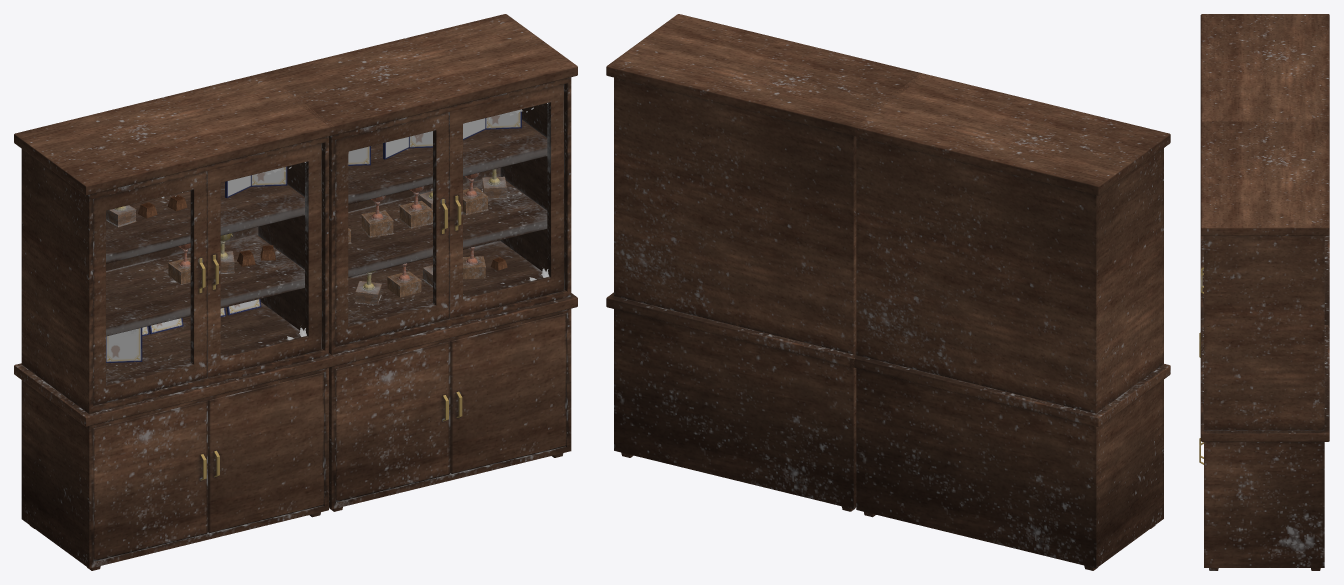
The model's file is M_ChairmanShelf.fbx.
3 views of the same model, side by side, from view 1: azimuth 30°, elevation 25°; view 2: azimuth 150°, elevation 25°; view 3: azimuth 270°, elevation 25° (orthographic). The views are drawn at different scales.
Visible parts, largest first — view 1: principles_shelf_GEO, shelf_GEO, lowerR_GEO (×2), lowerL_GEO (×2), higherL01door_GEO (×2), higherR01door_GEO, higherR01shelf_GEO, award1_GEO, award6_GEO, award9_GEO, trophy3_GEO6, trophy3_GEO5 (+2 smaller); view 2: principles_shelf_GEO, shelf_GEO; view 3: shelf_GEO, principles_shelf_GEO.
Boxes of the visible parts, left/top/right/bottom form: principles_shelf_GEO: left=14, top=73, right=334, bottom=570; shelf_GEO: left=258, top=14, right=577, bottom=511; lowerR_GEO (×2): left=208, top=313, right=566, bottom=533; lowerL_GEO (×2): left=93, top=341, right=450, bottom=561; higherL01door_GEO (×2): left=93, top=112, right=449, bottom=405; higherR01door_GEO: left=207, top=143, right=321, bottom=377; higherR01shelf_GEO: left=449, top=84, right=563, bottom=318; award1_GEO: left=106, top=328, right=142, bottom=362; award6_GEO: left=225, top=166, right=287, bottom=197; award9_GEO: left=463, top=111, right=521, bottom=139; trophy3_GEO6: left=399, top=186, right=432, bottom=228; trophy3_GEO5: left=361, top=195, right=393, bottom=237; principles_shelf_GEO: left=849, top=73, right=1170, bottom=570; shelf_GEO: left=606, top=14, right=925, bottom=511; shelf_GEO: left=1200, top=119, right=1329, bottom=570; principles_shelf_GEO: left=1200, top=14, right=1329, bottom=327.
Bounding box in the file's own units: 174 × 132 × 44.98.
Materials: 6 (6 with a texture image).
